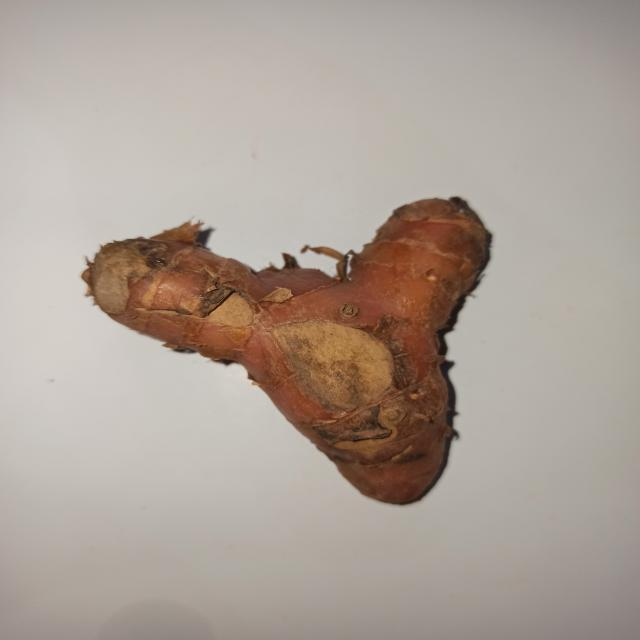ginger: (101, 190, 488, 498)
